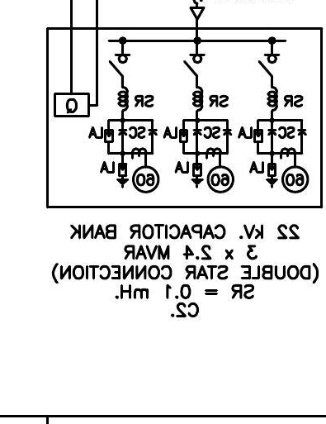22_cap_bank: (46, 27, 324, 209)
Q: (53, 92, 90, 118)
terminator_single: (189, 6, 206, 20)
